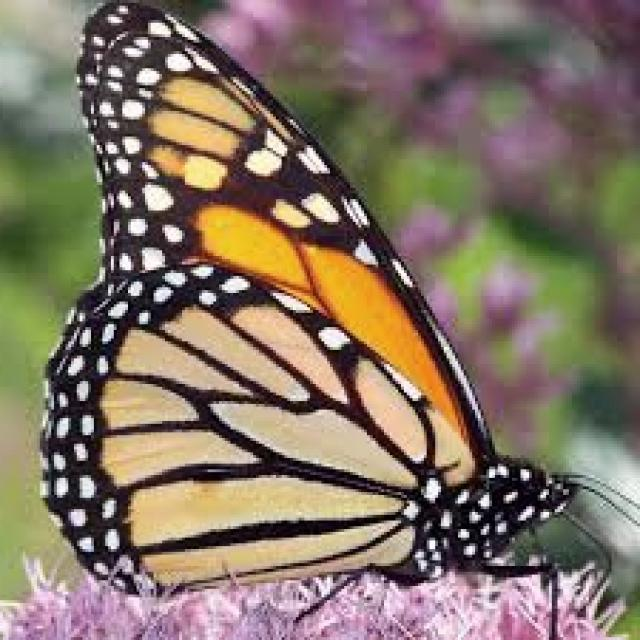butterfly: (43, 0, 640, 637)
